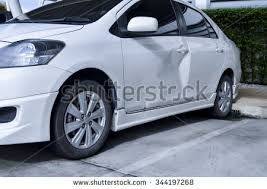Dent: (157, 42, 193, 93)
